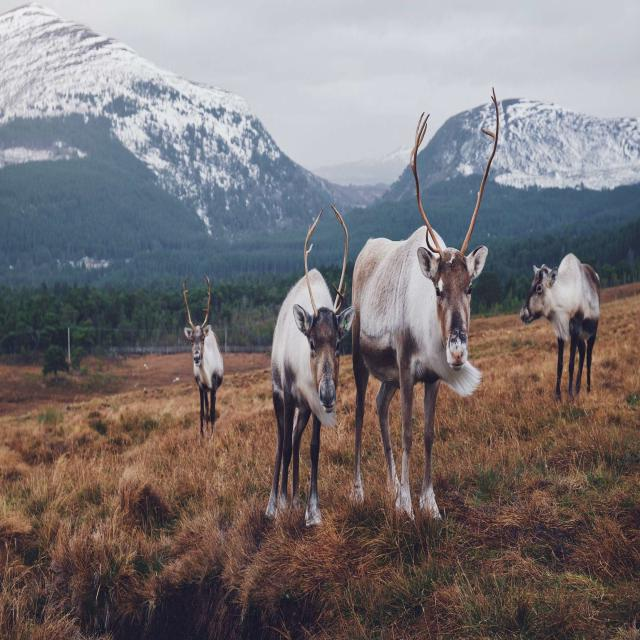Reindeer: (351, 89, 507, 534), (266, 205, 354, 534), (526, 223, 612, 403), (174, 262, 230, 450)
